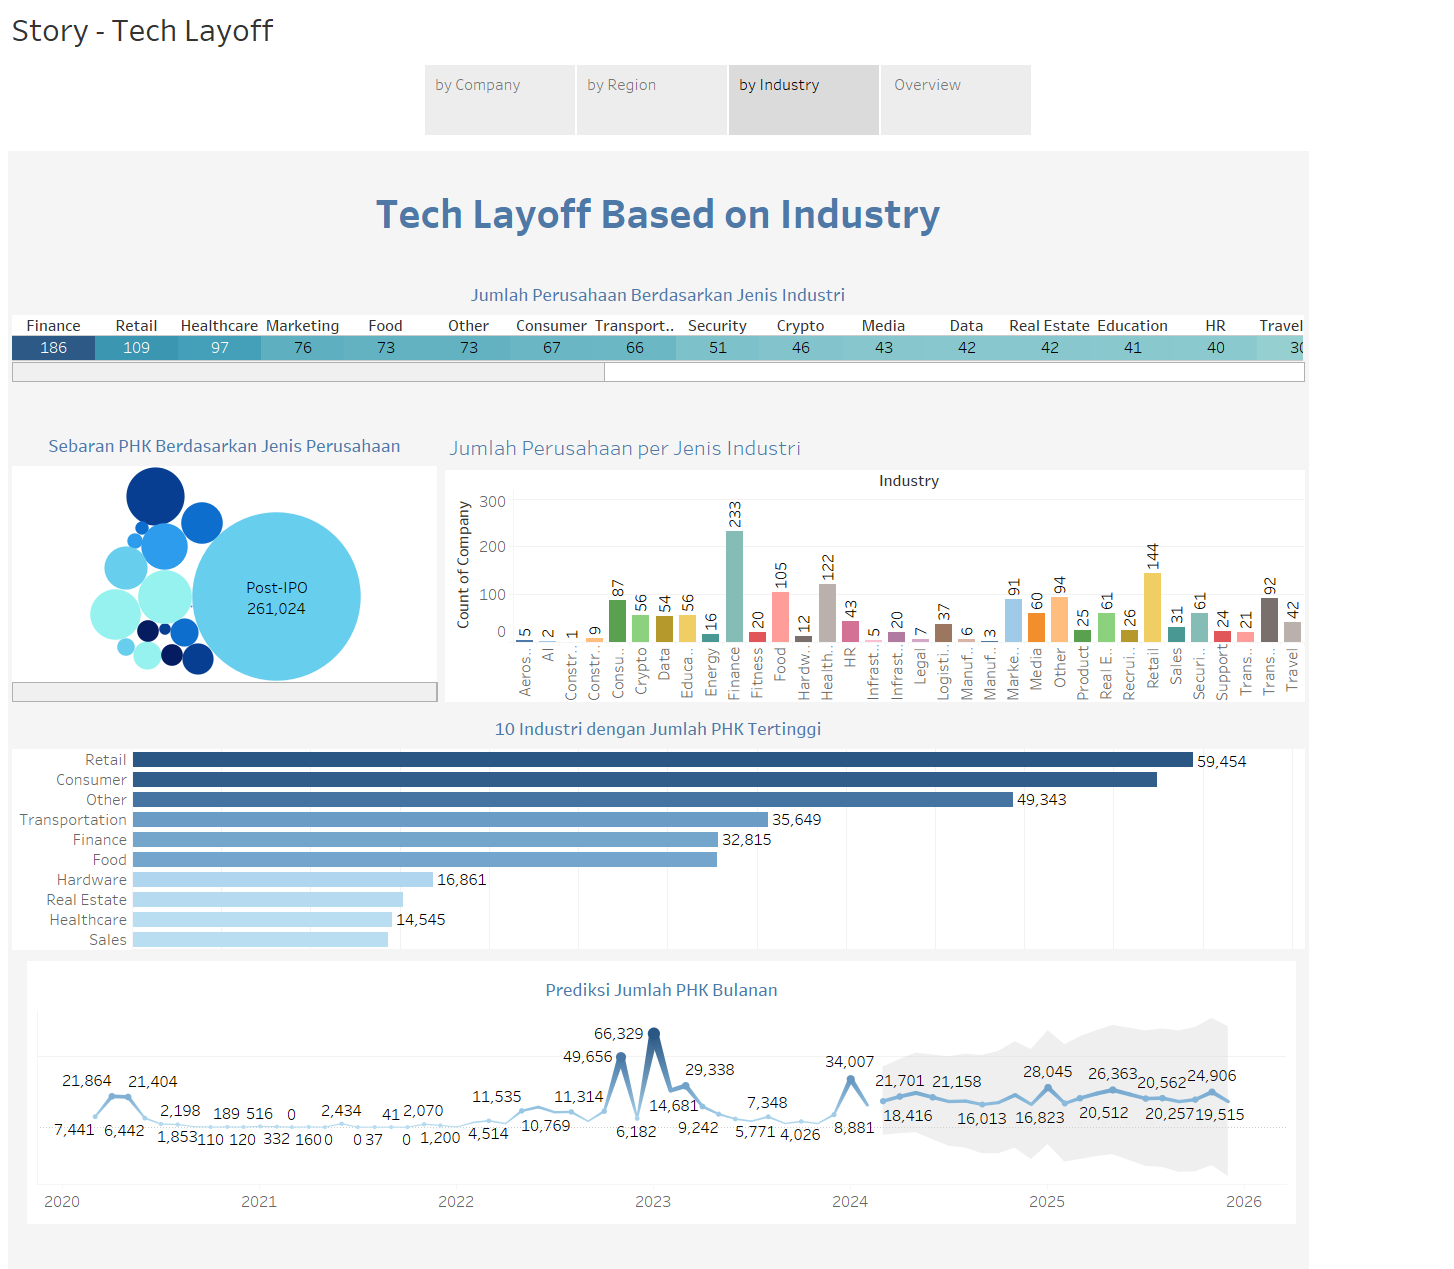

This screenshot's page, from the dashboard's own definition file:
{"tool":"tableau","page":{"name":"D3- Industry ","canvas":[1300,1300],"ordinal":2},"visuals":[{"type":"text","box":[0,0,1300,121]},{"type":"worksheet","title":"Jumlah Perusahaan Berdasarkan Jenis Industri","mark":"Square","cols":["Industry"],"box":[0,121,1300,150.8]},{"type":"worksheet","title":"Sebaran PHK Berdasarkan Jenis Perusahaan","mark":"Circle","box":[0,271.8,433,283.2]},{"type":"worksheet","title":"Jumlah Perusahaan per Jenis Industri","mark":"Automatic","rows":["Company"],"cols":["Industry"],"box":[433,271.8,867,283.2]},{"type":"worksheet","title":"Top 10 Highest Layoff by Industry","mark":"Automatic","rows":["Industry"],"cols":["Laid_Off"],"box":[0,555,1300,745]},{"type":"worksheet","title":"Monthly Laid Off Prediction by Industry","mark":"Automatic","rows":["Laid_Off"],"cols":["Date_layoffs"],"box":[9,800,1289,283]}]}

Visuals, with their boxes on the page's 1300x1300 design canvas (x1, y1, x2, y2). These are canvas units, not pixel positions in the 1454x1269 screenshot, which may show the page scaled, cropped or inside an application window:
text: left=0, top=0, right=1300, bottom=121
"Jumlah Perusahaan Berdasarkan Jenis Industri" worksheet (Square marks): left=0, top=121, right=1300, bottom=272
"Sebaran PHK Berdasarkan Jenis Perusahaan" worksheet (Circle marks): left=0, top=272, right=433, bottom=555
"Jumlah Perusahaan per Jenis Industri" worksheet: left=433, top=272, right=1300, bottom=555
"Top 10 Highest Layoff by Industry" worksheet: left=0, top=555, right=1300, bottom=1300
"Monthly Laid Off Prediction by Industry" worksheet: left=9, top=800, right=1298, bottom=1083
